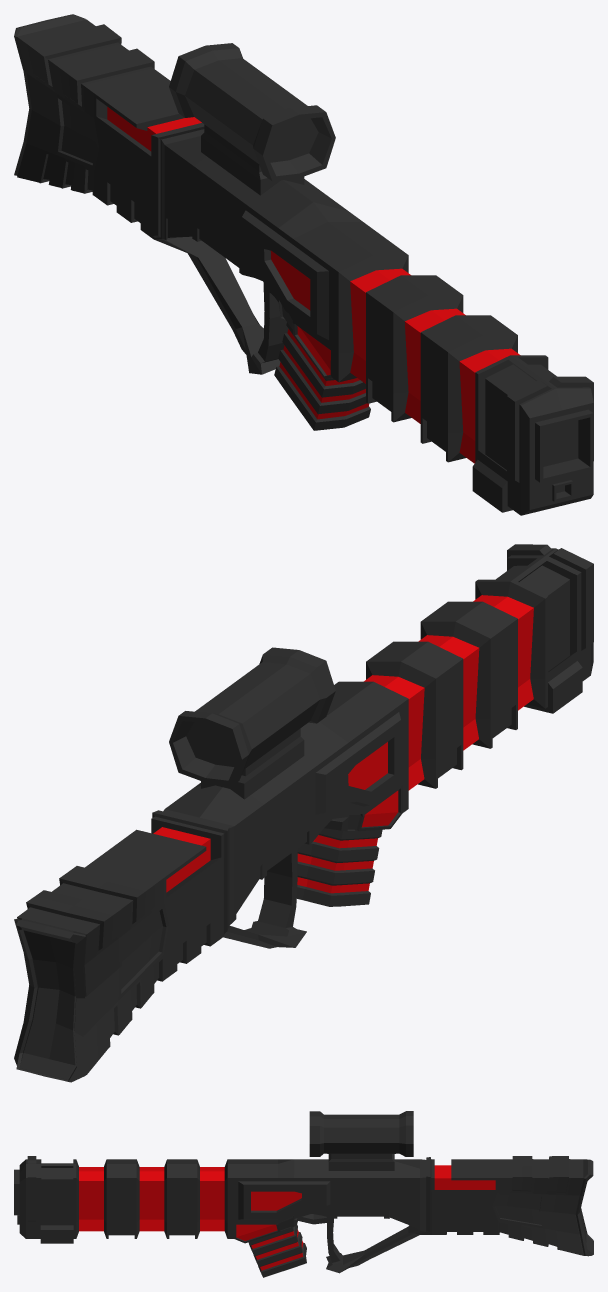
The picture shows the model from 3 angles, top to bottom: view 1: azimuth 30°, elevation 25°; view 2: azimuth 150°, elevation 25°; view 3: azimuth 270°, elevation 25°; orthographic projection. The views are drawn at different scales.
Visible parts, largest first — view 1: Cube; view 2: Cube; view 3: Cube.
Part boxes in pixels (x1,y1,x2,y2): Cube: (14,14,593,515); Cube: (14,544,593,1082); Cube: (14,1111,593,1277).
Bounding box in the file's own units: 240 × 766 × 2596.
